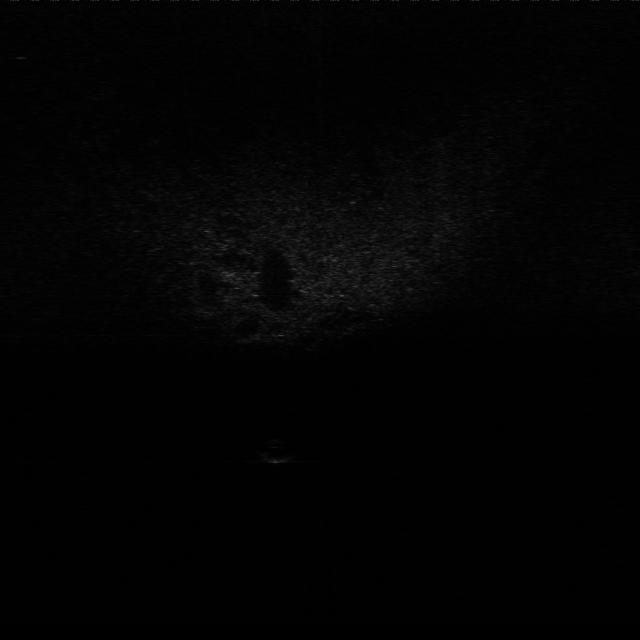ball: (258, 438, 298, 463)
